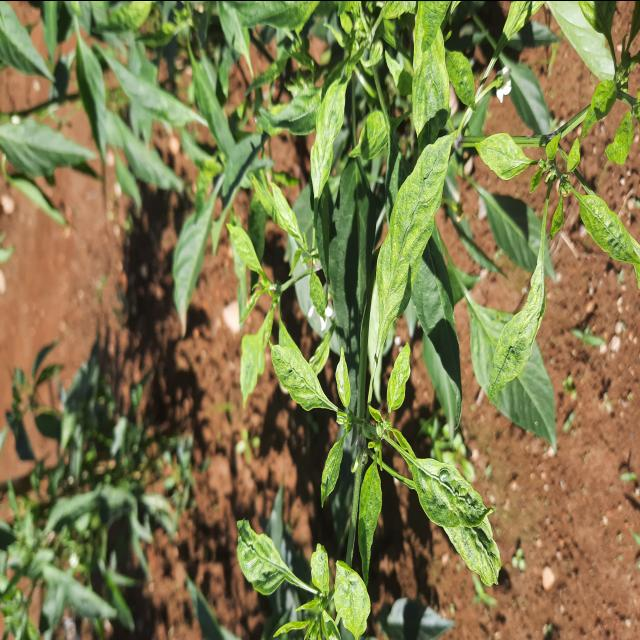thrips: (356, 114, 466, 384), (406, 423, 512, 598)
